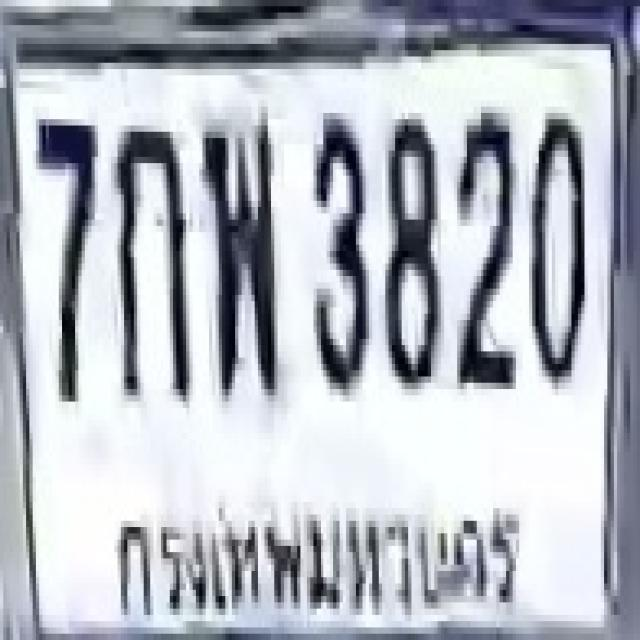0: (527, 103, 583, 380)
2: (454, 106, 513, 382)
3: (310, 110, 366, 386)
7: (34, 119, 96, 402)
8: (382, 113, 438, 383)
A01: (112, 116, 188, 399)
A30: (199, 116, 278, 392)
BKK: (104, 485, 528, 640)
